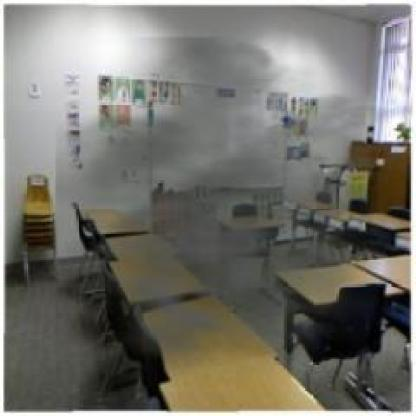Smoke: (55, 37, 414, 388)
